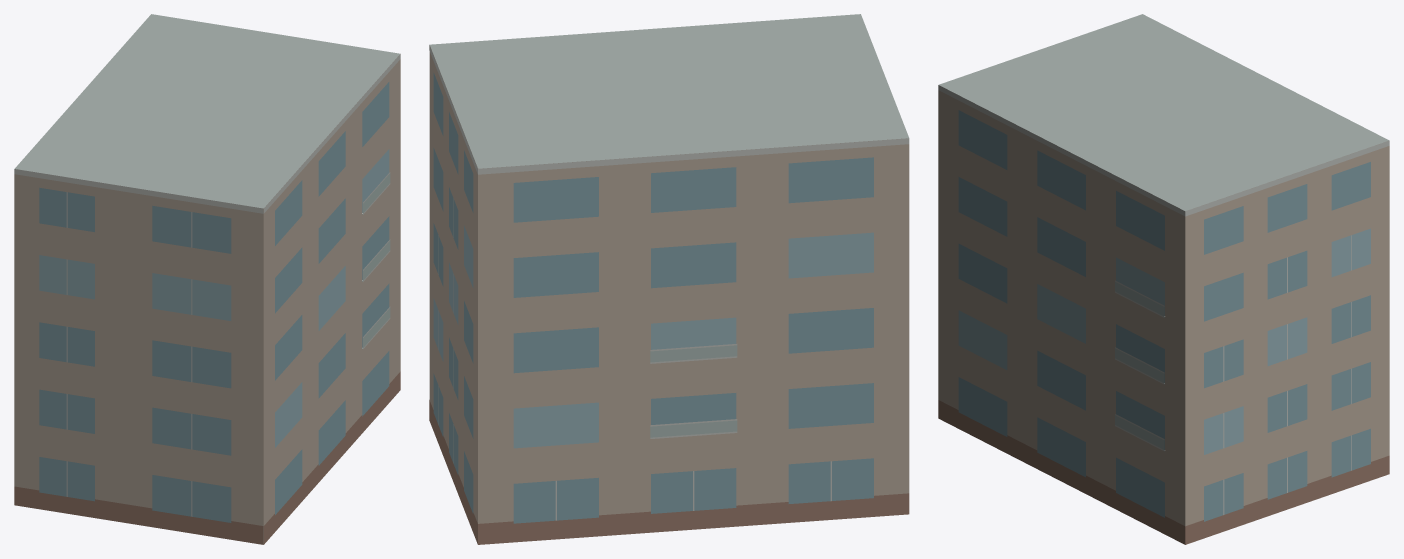
Rendered from survey-upis-32838195.glb.
The picture shows the model from 3 angles, left to right: view 1: azimuth 30°, elevation 25°; view 2: azimuth 150°, elevation 25°; view 3: azimuth 270°, elevation 25°; orthographic projection. The views are drawn at different scales.
Parts seen in each view (by area): view 1: survey-upis-32838195.tmp; view 2: survey-upis-32838195.tmp; view 3: survey-upis-32838195.tmp.
Boxes of the visible parts, x1,y1,x2,y2 form: survey-upis-32838195.tmp: (14, 14, 400, 544); survey-upis-32838195.tmp: (429, 14, 909, 544); survey-upis-32838195.tmp: (938, 14, 1389, 544).
Size of the model in its own units: 19.54 by 15.4 by 18.88.
